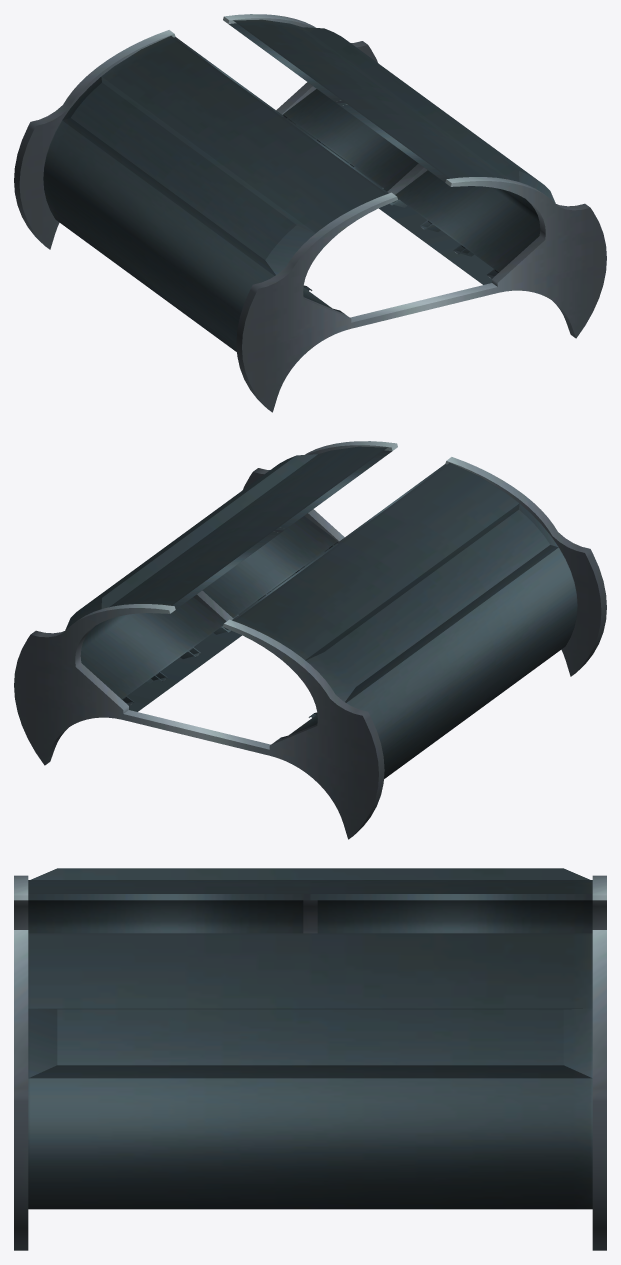
Rendered from cubiertaMeta.obj.
The picture shows the model from 3 angles, top to bottom: view 1: azimuth 30°, elevation 25°; view 2: azimuth 150°, elevation 25°; view 3: azimuth 270°, elevation 25°; orthographic projection. The views are drawn at different scales.
Parts seen in each view (by area): view 1: STADIUM_OUTWALL_B_LOD_gxmat685, STADIUM_OUTWALL_B_LOD_gxmat689, STADIUM_OUTWALL_B_LOD_gxmat691, STADIUM_OUTWALL_B_LOD_gxmat693; view 2: STADIUM_OUTWALL_B_LOD_gxmat685, STADIUM_OUTWALL_B_LOD_gxmat689, STADIUM_OUTWALL_B_LOD_gxmat691, STADIUM_OUTWALL_B_LOD_gxmat693; view 3: STADIUM_OUTWALL_B_LOD_gxmat685, STADIUM_OUTWALL_B_LOD_gxmat691, STADIUM_OUTWALL_B_LOD_gxmat689.
Part boxes in pixels (left/top/right/bottom): STADIUM_OUTWALL_B_LOD_gxmat685: left=43, top=19, right=555, bottom=351; STADIUM_OUTWALL_B_LOD_gxmat689: left=14, top=14, right=606, bottom=412; STADIUM_OUTWALL_B_LOD_gxmat691: left=174, top=23, right=540, bottom=309; STADIUM_OUTWALL_B_LOD_gxmat693: left=282, top=114, right=498, bottom=313; STADIUM_OUTWALL_B_LOD_gxmat685: left=65, top=446, right=577, bottom=778; STADIUM_OUTWALL_B_LOD_gxmat689: left=14, top=441, right=606, bottom=839; STADIUM_OUTWALL_B_LOD_gxmat691: left=80, top=450, right=446, bottom=736; STADIUM_OUTWALL_B_LOD_gxmat693: left=122, top=541, right=338, bottom=740; STADIUM_OUTWALL_B_LOD_gxmat685: left=28, top=868, right=592, bottom=1209; STADIUM_OUTWALL_B_LOD_gxmat691: left=28, top=894, right=592, bottom=933; STADIUM_OUTWALL_B_LOD_gxmat689: left=14, top=875, right=606, bottom=1250.
Bounding box in the file's own units: 109 × 53.04 × 118.
